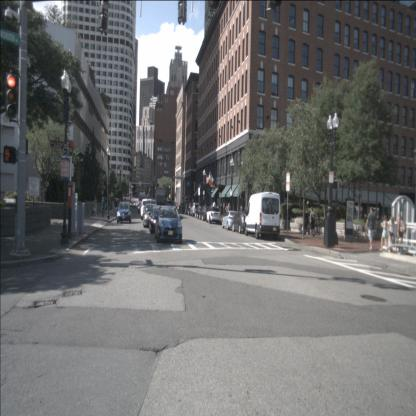human-pedestrian-adult: (365, 206, 377, 250), (396, 212, 407, 252), (386, 216, 396, 254), (379, 215, 388, 250), (309, 207, 316, 241), (302, 207, 308, 238), (93, 196, 98, 215), (101, 197, 105, 218), (212, 200, 216, 213), (220, 203, 223, 219), (227, 202, 230, 216)
vehicle-car: (245, 192, 280, 240), (155, 206, 182, 243), (149, 206, 169, 233), (232, 210, 253, 233), (222, 210, 240, 230), (116, 201, 132, 223), (143, 204, 158, 227), (206, 206, 221, 225), (144, 200, 158, 220), (141, 198, 153, 219), (199, 206, 212, 221), (190, 202, 200, 218), (195, 205, 205, 219), (166, 200, 174, 212), (138, 202, 145, 214), (130, 201, 135, 208)
vehicle-truck: (155, 188, 165, 209), (138, 191, 146, 207)
